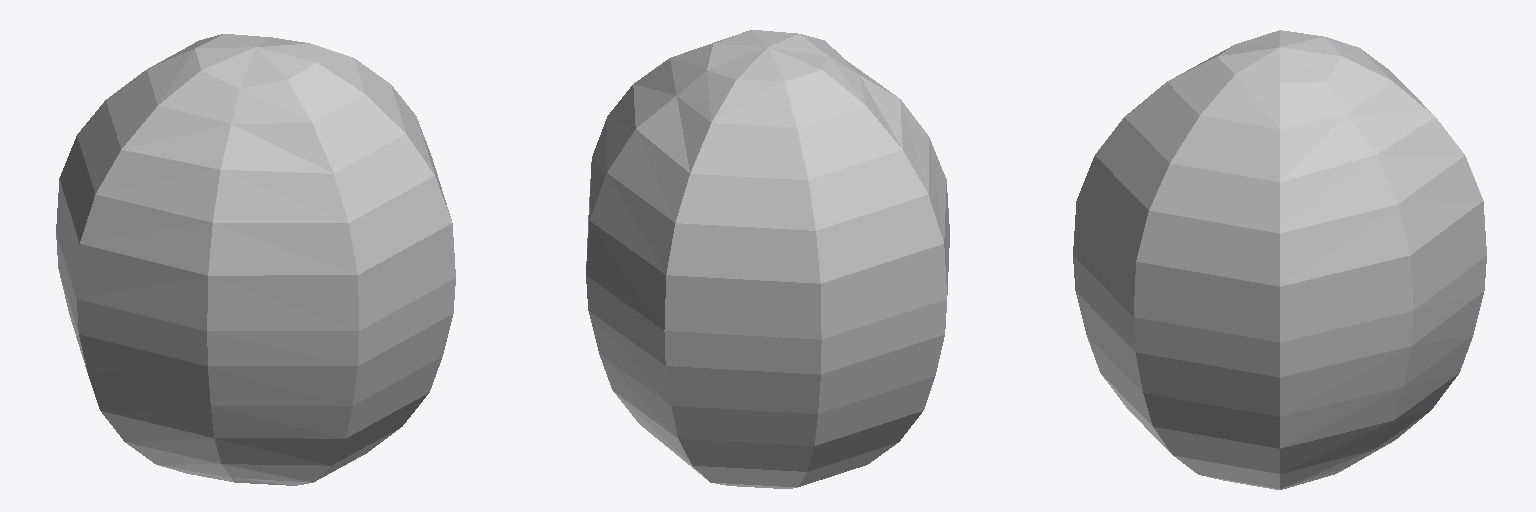
File: Coconut.obj
3 renders of one model, left to right at view 1: azimuth 30°, elevation 25°; view 2: azimuth 150°, elevation 25°; view 3: azimuth 270°, elevation 25°, orthographic.
Visible parts, largest first — view 1: Cube.002; view 2: Cube.002; view 3: Cube.002.
Boxes of the visible parts, x1,y1,x2,y2 form: Cube.002: [56, 34, 455, 485]; Cube.002: [586, 30, 949, 488]; Cube.002: [1073, 30, 1486, 489].
Size of the model in its own units: 0.3685 by 0.41 by 0.3685.